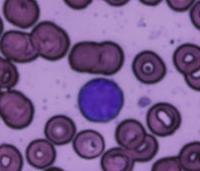L: (77, 77, 125, 123)
